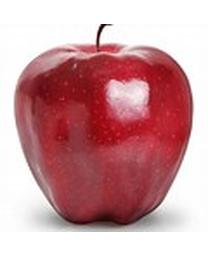apple: (13, 24, 194, 225)
